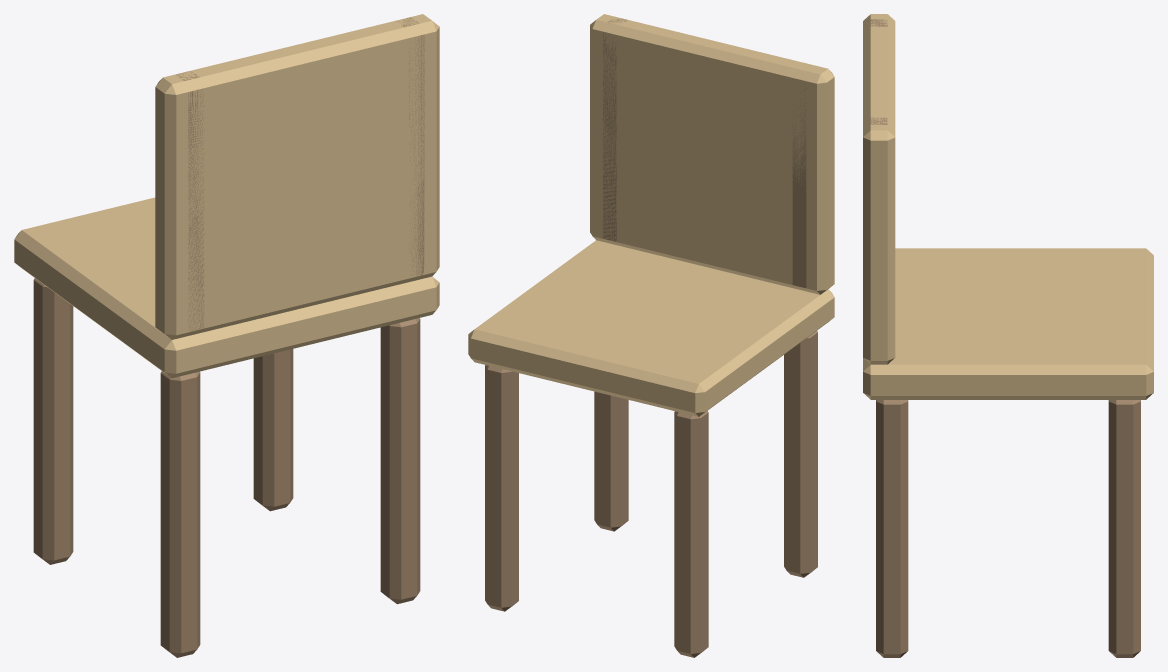
3 renders of one model, left to right at view 1: azimuth 30°, elevation 25°; view 2: azimuth 150°, elevation 25°; view 3: azimuth 270°, elevation 25°, orthographic. The views are drawn at different scales.
Parts seen in each view (by area): view 1: 靠背.001, 椅腿, 座面; view 2: 靠背.001, 座面, 椅腿; view 3: 座面, 椅腿, 靠背.001.
Part boxes in pixels (x1,y1,x2,y2): 靠背.001: (155, 14, 439, 339); 椅腿: (33, 278, 420, 657); 座面: (14, 197, 439, 378); 靠背.001: (590, 14, 834, 294); 座面: (468, 240, 834, 416); 椅腿: (485, 331, 817, 657); 座面: (863, 248, 1153, 399); 椅腿: (876, 400, 1140, 657); 靠背.001: (863, 14, 895, 364).
Size of the model in its own units: 45 by 91 by 45.
